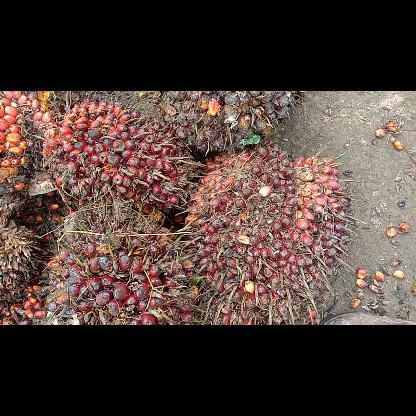Kurang masak: (141, 91, 308, 157)
TBS masak: (178, 138, 364, 324), (41, 196, 204, 324), (45, 98, 199, 216)
